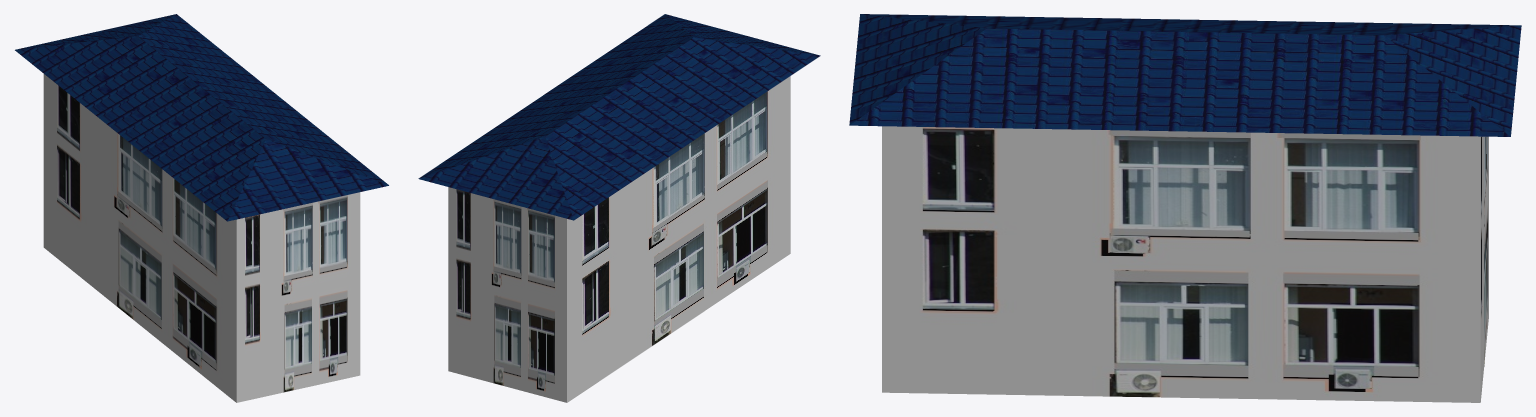
The picture shows the model from 3 angles, left to right: view 1: azimuth 30°, elevation 25°; view 2: azimuth 150°, elevation 25°; view 3: azimuth 270°, elevation 25°; orthographic projection. The views are drawn at different scales.
Visible parts, largest first — view 1: CityEngineMaterial_9_m, CityEngineMaterial_6_m; view 2: CityEngineMaterial_9_m, CityEngineMaterial_6_m; view 3: CityEngineMaterial_9_m, CityEngineMaterial_6_m.
Boxes of the visible parts, box(x1,y1,x2,y2) form: CityEngineMaterial_9_m: box(43, 74, 360, 402); CityEngineMaterial_6_m: box(15, 14, 388, 221); CityEngineMaterial_9_m: box(448, 76, 790, 402); CityEngineMaterial_6_m: box(418, 14, 820, 220); CityEngineMaterial_9_m: box(882, 126, 1488, 402); CityEngineMaterial_6_m: box(849, 14, 1521, 136).
Size of the model in its own units: 8.7 by 10.66 by 20.08.
